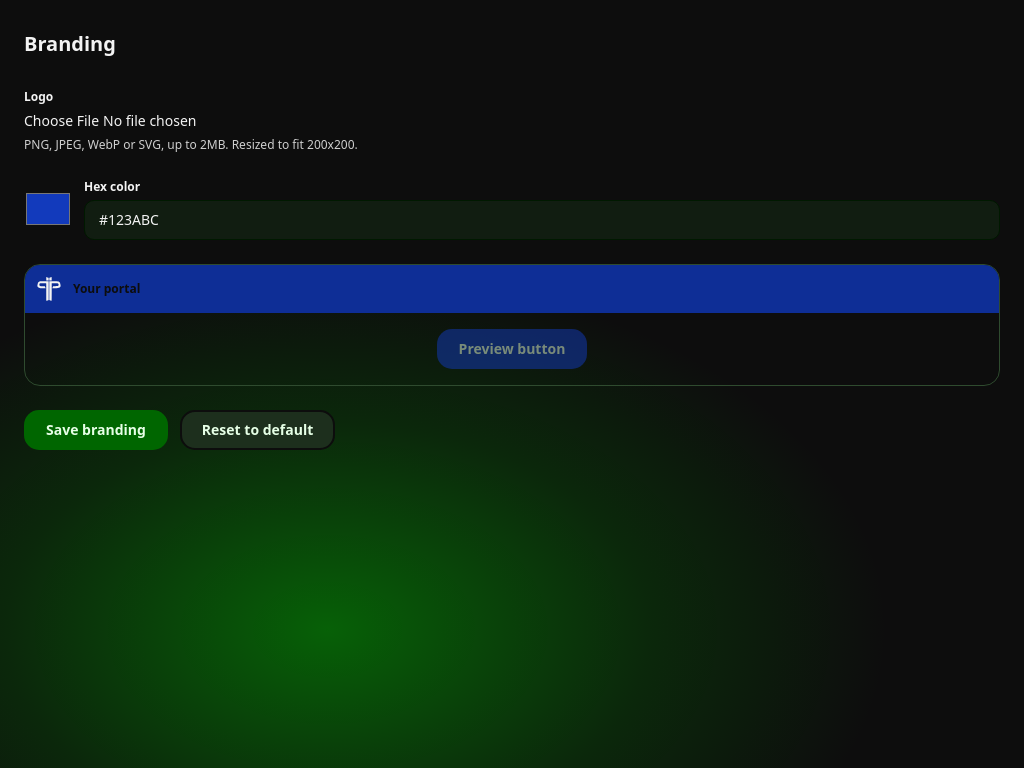
Test: BrandingPage › shows a generic error message when the save fails
Expected: the field labelled "Hex color" holds "#123ABC", [84,200,1000,240]
Click the button "Save branding". click: (96, 430)
box: [24,410,168,450]
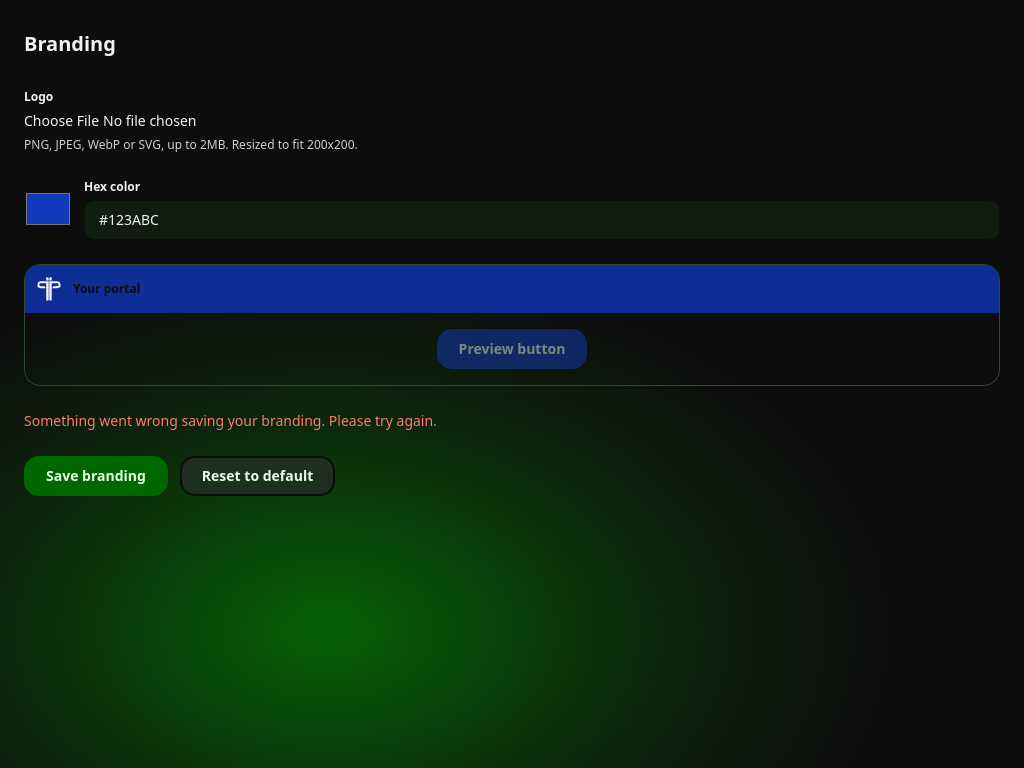
Expected: the message shows "Something went wrong saving your branding", [24,411,437,430]
